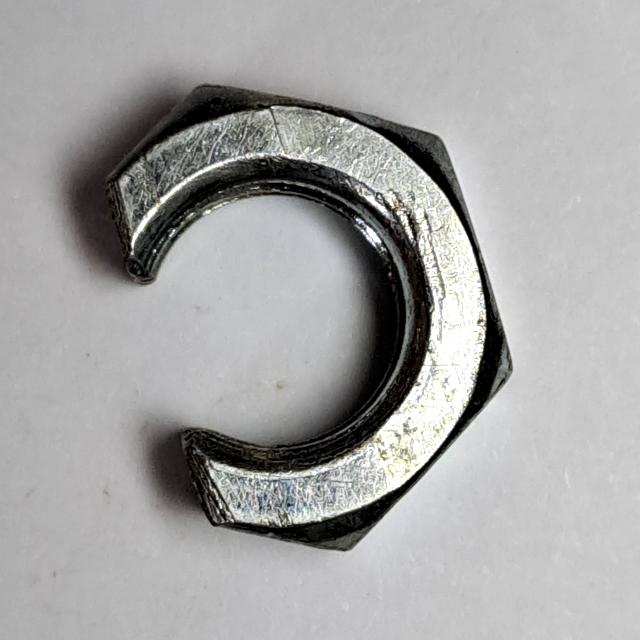Fracture: (96, 70, 525, 573)
